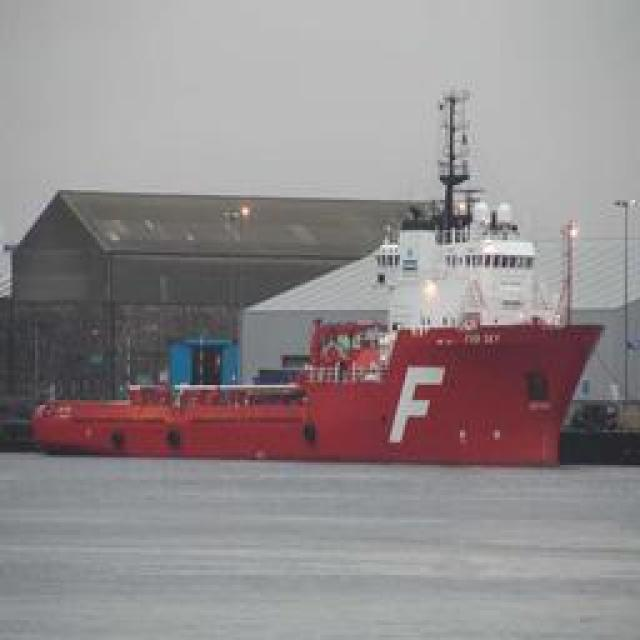CIV_Ship: (40, 312, 615, 468)
